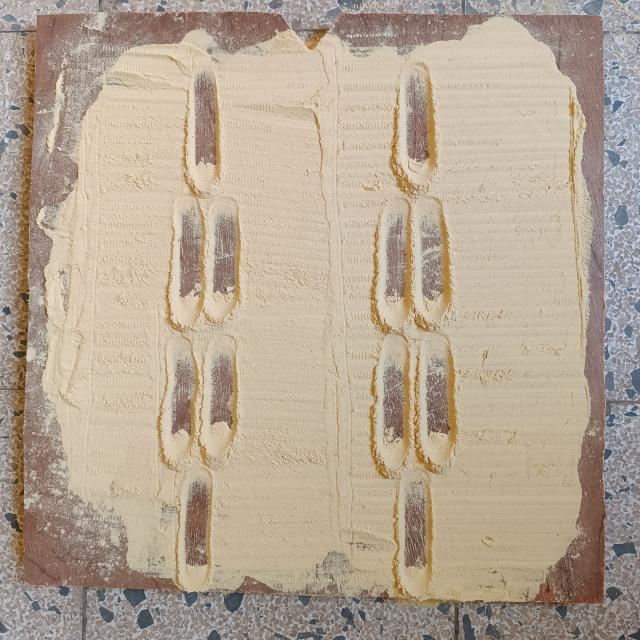double: (364, 333, 463, 479), (156, 329, 245, 467), (371, 195, 457, 335), (161, 192, 246, 330)
single: (389, 58, 446, 192), (170, 465, 220, 591), (394, 470, 442, 600), (182, 64, 228, 198)
